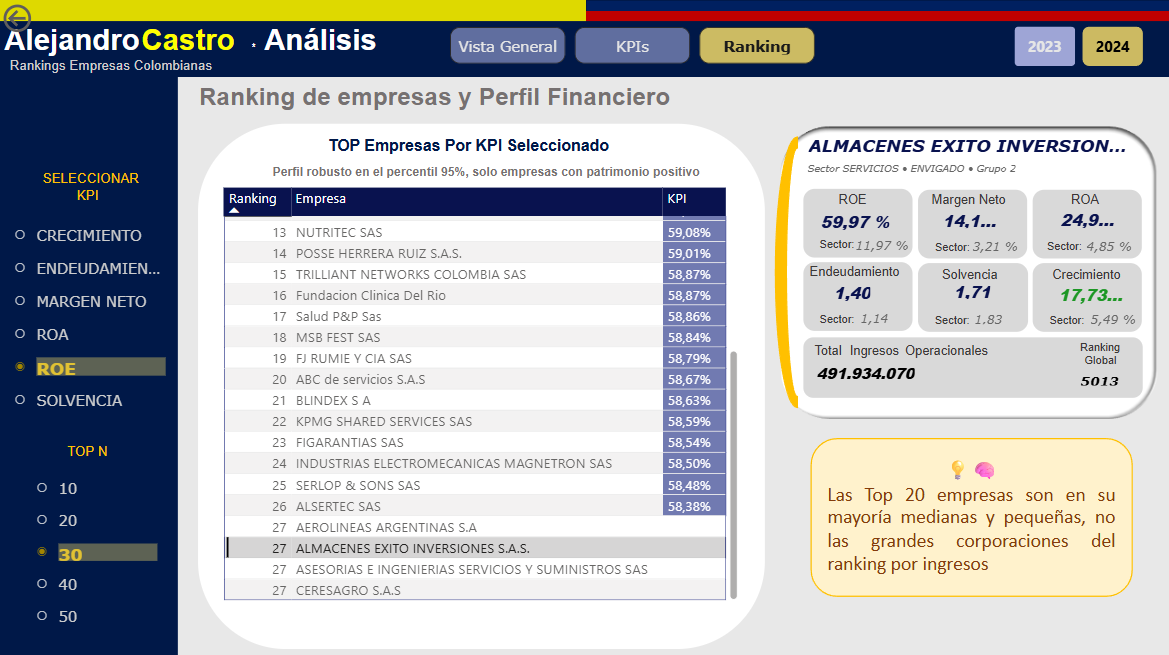

The dashboard page shown, as its layout file describes it:
{"tool":"powerbi","page":{"name":"Ranking","canvas":[1280,720],"ordinal":2},"visuals":[{"type":"pageNavigator","box":[491.8,30,400,40],"z":0},{"type":"advancedSlicerVisual","fields":{"Values":["10000_Empresas_Final.AÑO"]},"box":[1102.6,23.5,150.4,53.9],"z":1000},{"type":"advancedSlicerVisual","fields":{"Values":["Tabla_KPIs.KPIs"]},"box":[10.3,238.1,179.4,215.5],"z":2000},{"type":"actionButton","box":[0,0,100,40],"z":3000},{"type":"advancedSlicerVisual","fields":{"Values":["TOP N.TOP N"]},"box":[34,514.4,146.4,177.3],"z":4000},{"type":"tableEx","fields":{"Values":["TOP N.Ranking Dinamico","10000_Empresas_Final.RAZON SOCIAL","TOP N.Valor KPI Empresa TXT"]},"box":[238.7,200,572,460],"z":5000},{"type":"cardVisual","fields":{"Data":["Medidas.ROE_Mediana"]},"box":[867,213,137.3,55.7],"z":6000},{"type":"cardVisual","fields":{"Data":["Medidas.Margen_Neto_Mediana"]},"box":[1000,214.1,127,53],"z":7000},{"type":"cardVisual","fields":{"Data":["Medidas.Endeudamiento_Mediana"]},"box":[881.1,291.4,104.3,54.6],"z":8000},{"type":"cardVisual","fields":{"Data":["Medidas.ROA_Mediana"]},"box":[1128.6,211.9,126.5,54.1],"z":9000},{"type":"cardVisual","fields":{"Data":["Medidas.Solvencia_Mediana"]},"box":[1011.9,291.4,115.1,53],"z":10000},{"type":"cardVisual","fields":{"Data":["Medidas.Ingresos_Total"]},"box":[863.1,374.6,298.5,63.8],"z":11000},{"type":"cardVisual","fields":{"Data":["Medidas.Crecimiento_Mediana"]},"box":[1127,289.2,133.5,62.7],"z":12000},{"type":"cardVisual","fields":{"Data":["TOP N.Titulo Empresa"]},"box":[854.3,123.5,416,66.7],"z":13000},{"type":"cardVisual","fields":{"Data":["TOP N.Subtitulo Empresa"]},"box":[853.1,156.8,412.3,50.6],"z":14000},{"type":"cardVisual","fields":{"Data":["Medidas.ROE_Mediana"]},"box":[905,240,137.9,54.3],"z":15000},{"type":"cardVisual","fields":{"Data":["Min(10000_Empresas_Final.RANKING)"]},"box":[1150.8,390,103.1,47.7],"z":16000},{"type":"cardVisual","fields":{"Data":["Medidas.Margen_Neto_Mediana"]},"box":[1032.9,240.7,130.7,53.6],"z":17000},{"type":"cardVisual","fields":{"Data":["Medidas.ROA_Mediana"]},"box":[1157.9,240.7,116.4,54.3],"z":18000},{"type":"cardVisual","fields":{"Data":["Medidas.Endeudamiento_Mediana"]},"box":[910.7,320,104.3,54.3],"z":19000},{"type":"cardVisual","fields":{"Data":["Medidas.Solvencia_Mediana"]},"box":[1035.7,323.6,115,47.1],"z":20000},{"type":"cardVisual","fields":{"Data":["Medidas.Crecimiento_Mediana"]},"box":[1161.4,322.9,113.6,50.7],"z":21000}]}

Visuals, with their boxes in screenshot pixels (x1, y1, x2, y2), scaled from the page's 1280x720 canvas onto the 1169x655 screenshot:
pageNavigator: box=[449, 27, 814, 64]
advancedSlicerVisual - 10000_Empresas_Final.AÑO: box=[1007, 21, 1144, 70]
advancedSlicerVisual - Tabla_KPIs.KPIs: box=[9, 217, 173, 413]
actionButton: box=[0, 0, 91, 36]
advancedSlicerVisual - TOP N.TOP N: box=[31, 468, 165, 629]
tableEx - TOP N.Ranking Dinamico x 10000_Empresas_Final.RAZON SOCIAL: box=[218, 182, 740, 600]
cardVisual - Medidas.ROE_Mediana: box=[792, 194, 917, 244]
cardVisual - Medidas.Margen_Neto_Mediana: box=[913, 195, 1029, 243]
cardVisual - Medidas.Endeudamiento_Mediana: box=[805, 265, 900, 315]
cardVisual - Medidas.ROA_Mediana: box=[1031, 193, 1146, 242]
cardVisual - Medidas.Solvencia_Mediana: box=[924, 265, 1029, 313]
cardVisual - Medidas.Ingresos_Total: box=[788, 341, 1061, 399]
cardVisual - Medidas.Crecimiento_Mediana: box=[1029, 263, 1151, 320]
cardVisual - TOP N.Titulo Empresa: box=[780, 112, 1160, 173]
cardVisual - TOP N.Subtitulo Empresa: box=[779, 143, 1156, 189]
cardVisual - Medidas.ROE_Mediana: box=[827, 218, 952, 268]
cardVisual - Min(10000_Empresas_Final.RANKING): box=[1051, 355, 1145, 398]
cardVisual - Medidas.Margen_Neto_Mediana: box=[943, 219, 1063, 268]
cardVisual - Medidas.ROA_Mediana: box=[1057, 219, 1164, 268]
cardVisual - Medidas.Endeudamiento_Mediana: box=[832, 291, 927, 341]
cardVisual - Medidas.Solvencia_Mediana: box=[946, 294, 1051, 337]
cardVisual - Medidas.Crecimiento_Mediana: box=[1061, 294, 1164, 340]
